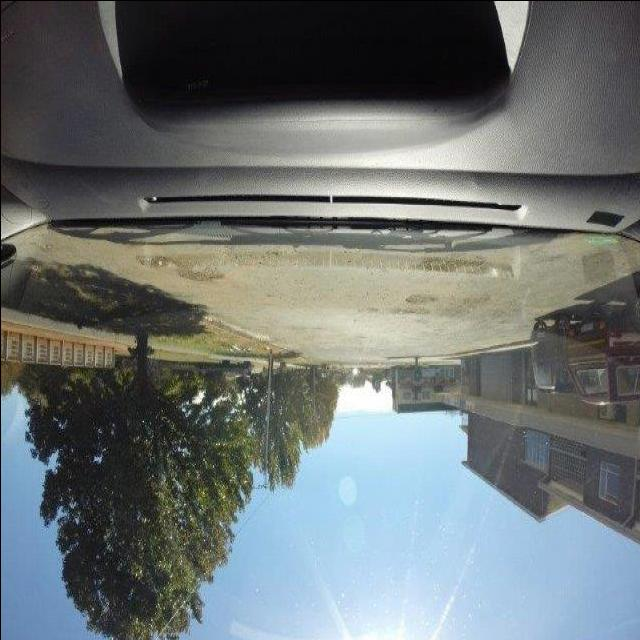lubang: (123, 254, 228, 286), (412, 254, 505, 278), (406, 284, 439, 310)
